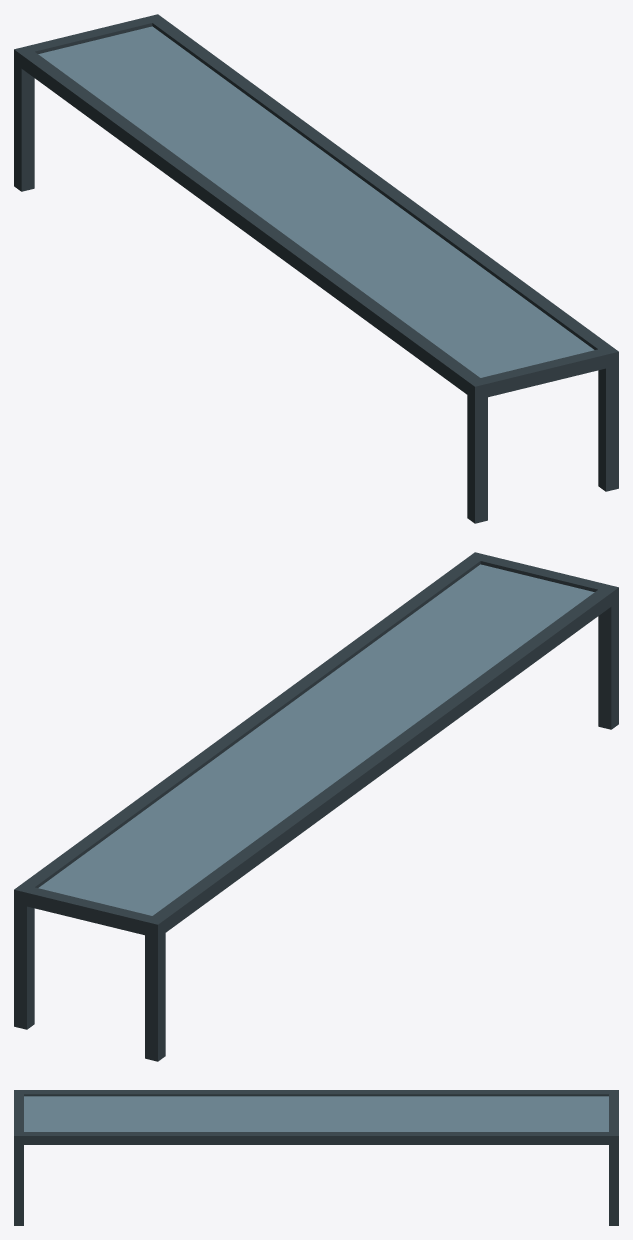
Rendered from Cabinet.fbx.
3 views of the same model, one above another, from view 1: azimuth 30°, elevation 25°; view 2: azimuth 150°, elevation 25°; view 3: azimuth 270°, elevation 25° (orthographic). The views are drawn at different scales.
Parts seen in each view (by area): view 1: Cube; view 2: Cube; view 3: Cube.
Boxes of the visible parts, <box> form: Cube: <box>14,14,618,523</box>; Cube: <box>14,552,618,1061</box>; Cube: <box>14,1090,618,1225</box>.
Size of the model in its own units: 220 by 200 by 1220.
1 material, 1 textured.
